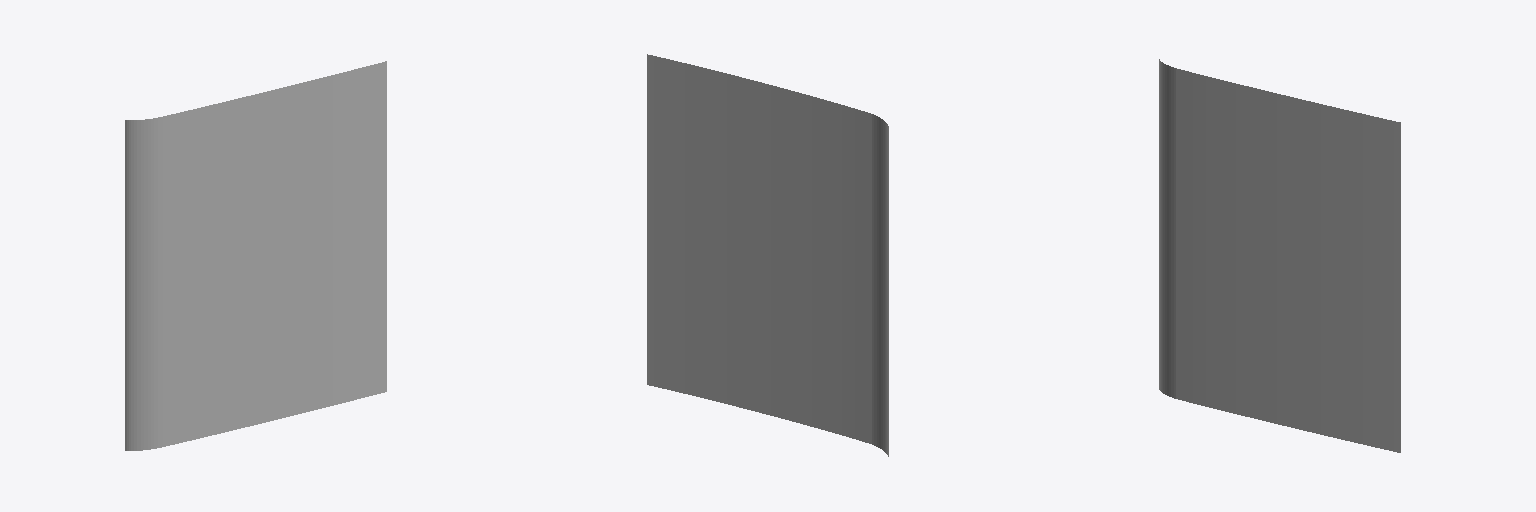
Rendered from right-list1.obj.
3 views of the same model, side by side, from view 1: azimuth 30°, elevation 25°; view 2: azimuth 150°, elevation 25°; view 3: azimuth 330°, elevation 25° (orthographic).
Parts seen in each view (by area): view 1: Cube.002; view 2: Cube.002; view 3: Cube.002.
Part boxes in pixels (left/top/right/bottom): Cube.002: left=125, top=61, right=386, bottom=450; Cube.002: left=647, top=54, right=888, bottom=456; Cube.002: left=1159, top=59, right=1400, bottom=452.
Bounding box in the file's own units: 1.94 × 2.46 × 0.1423.